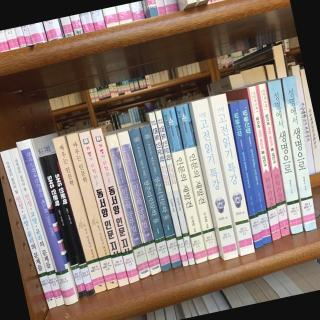book-spine: (16, 138, 79, 307), (0, 149, 57, 309), (8, 147, 64, 306), (52, 136, 107, 293), (65, 132, 119, 290), (78, 131, 129, 287), (191, 99, 239, 260), (90, 127, 139, 283), (161, 107, 208, 264), (210, 93, 255, 256), (175, 103, 220, 260), (39, 155, 87, 298), (47, 153, 94, 296), (105, 133, 151, 279), (117, 130, 162, 275), (128, 127, 172, 272), (148, 112, 189, 267), (155, 110, 195, 265), (140, 124, 182, 268), (267, 79, 304, 234), (281, 75, 317, 232), (247, 85, 281, 241), (256, 82, 290, 237), (229, 102, 264, 248), (238, 99, 272, 244)
